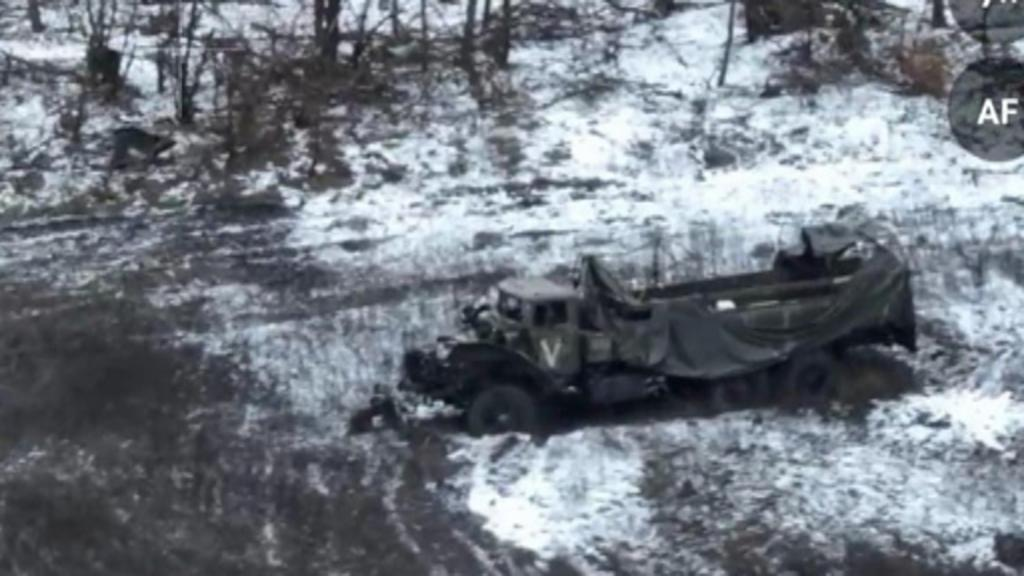TRUCK: (398, 228, 918, 440)
